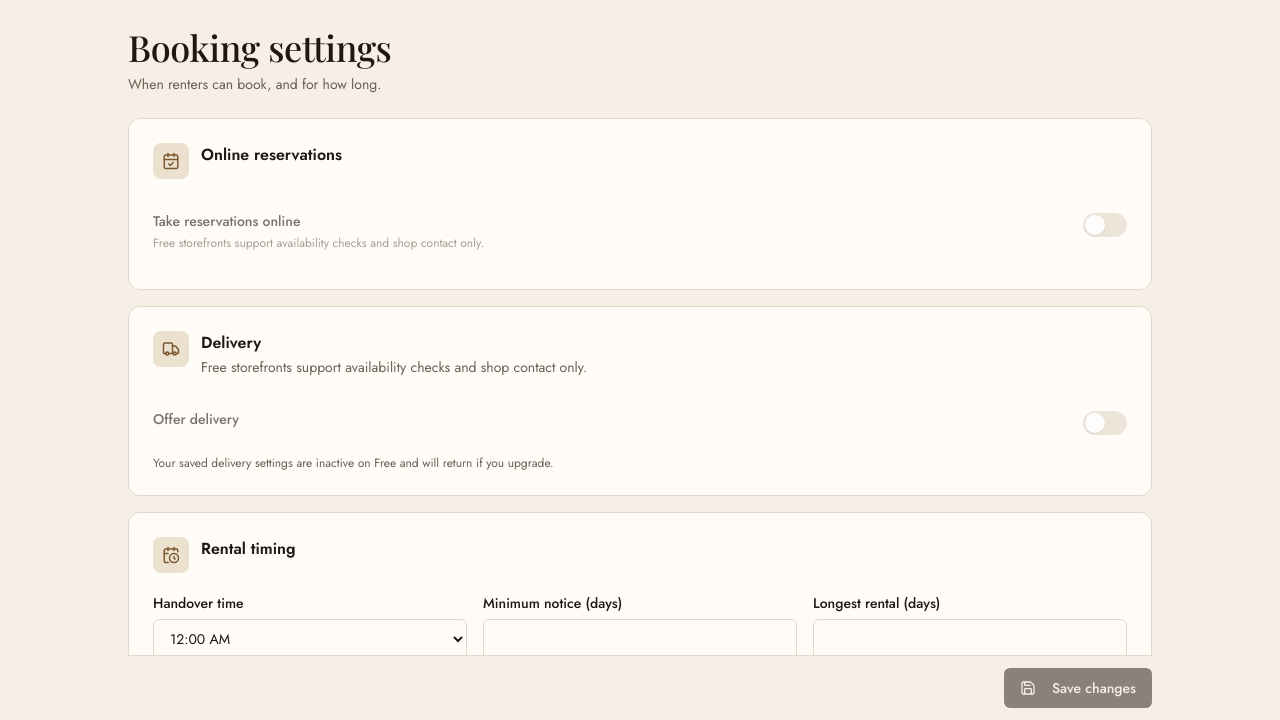
Free storefront feature gates › keeps saved delivery settings inactive and opens upgrade when the locked control is activated
Expected: the text "Your saved delivery settings are inactive on Free and will return if you upgrade." is shown, [153,454,554,472]
Click the switch labelled "Offer delivery".
click(196, 419)  # box [153,409,1127,435]
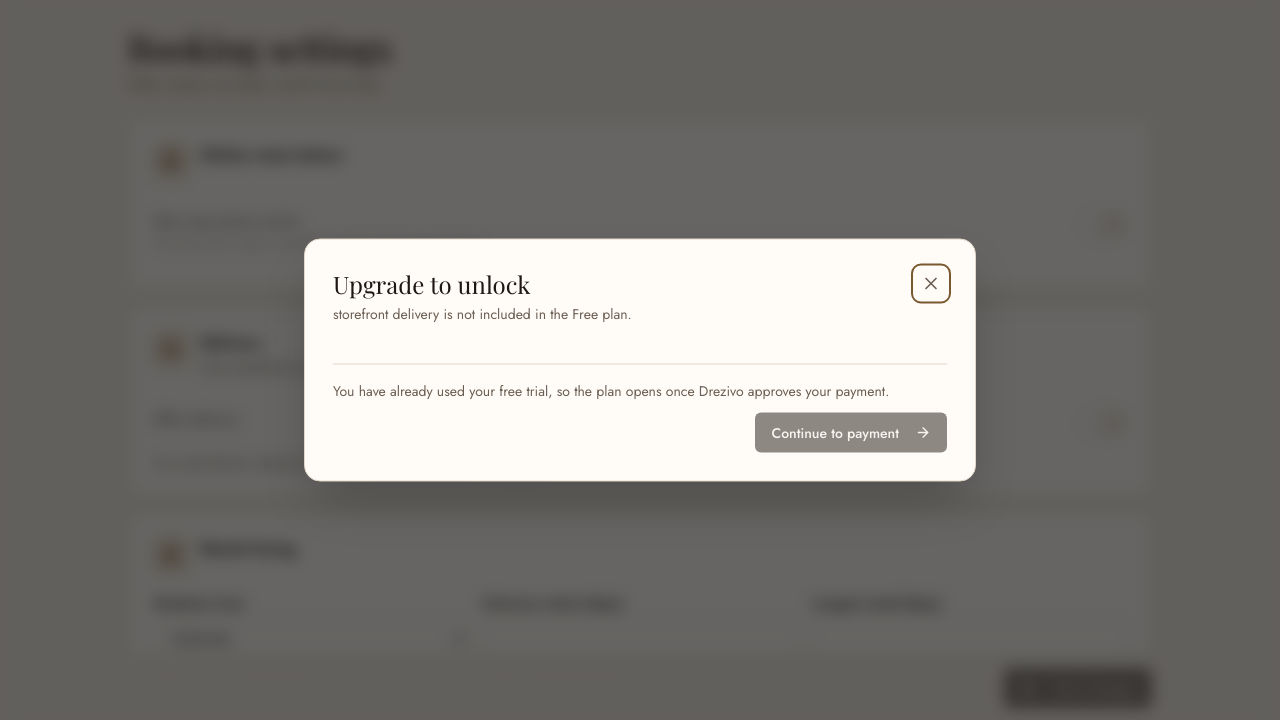
Expected: the heading "Upgrade to unlock" is shown, [333,268,530,300]
